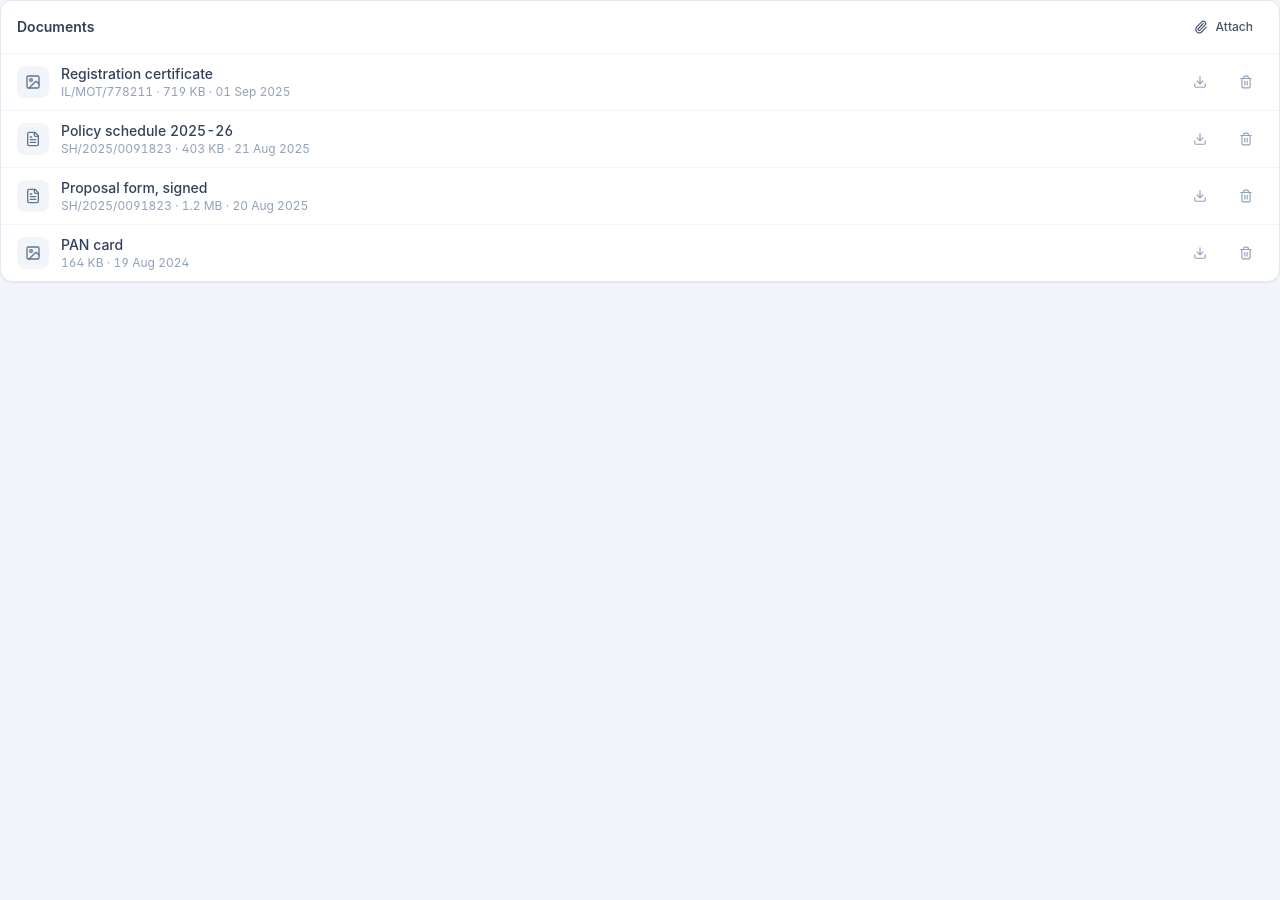
Scenario: attaching a document › reports an attach the core refuses, keeping the form open
Click the button "Attach": (1223, 27) [1184,13,1263,41]
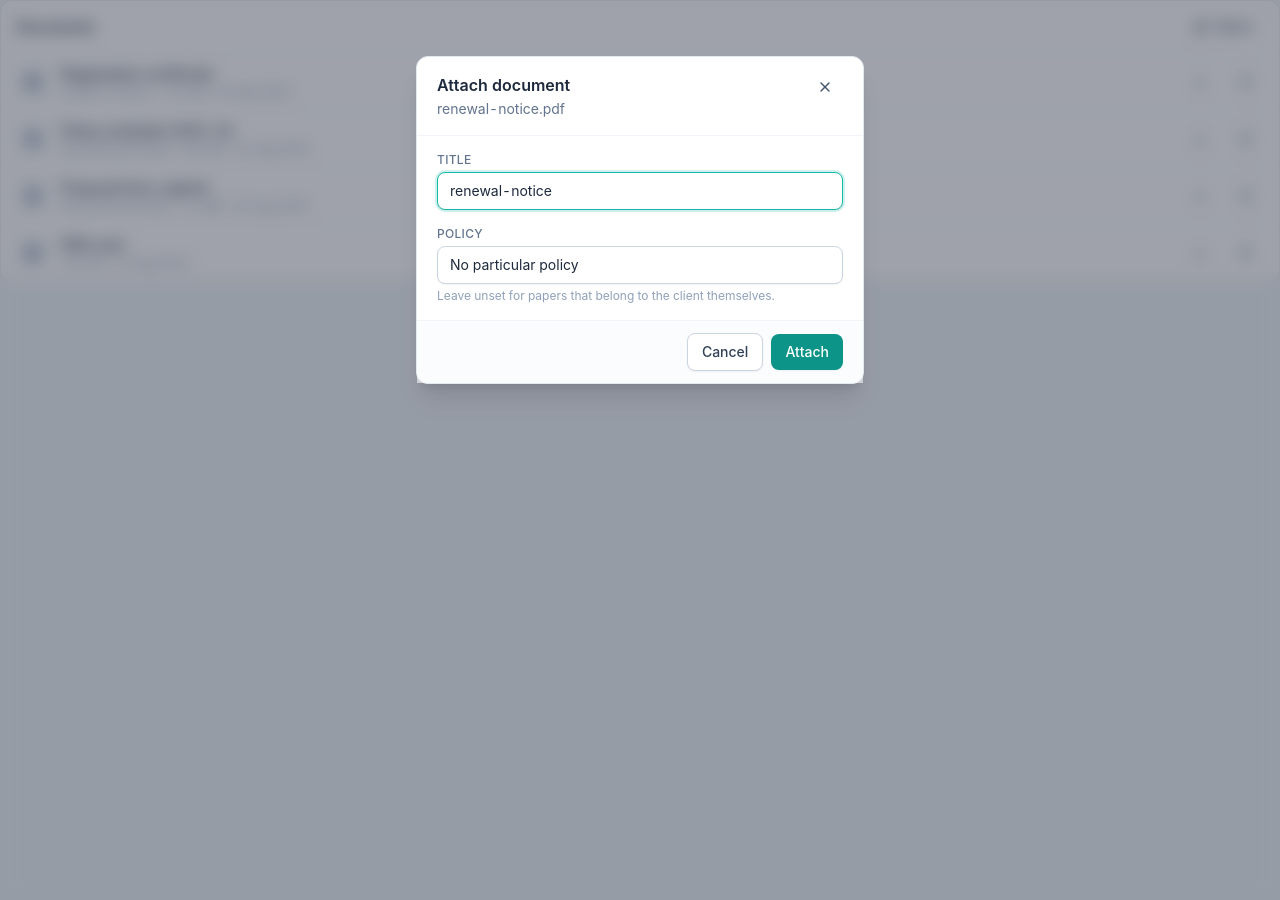
Click the button "Attach": (807, 352) [771,334,843,370]
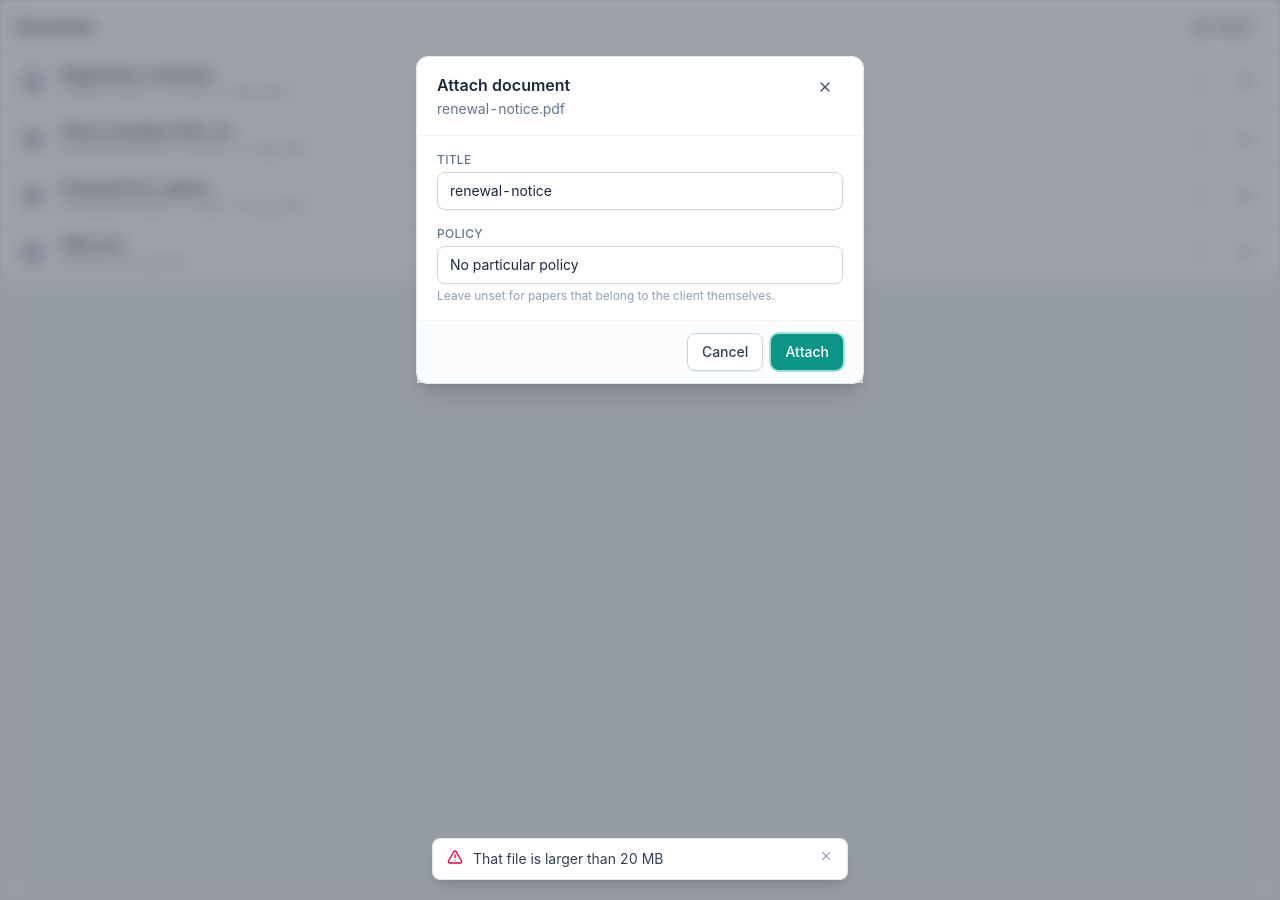
Result: the dialog is shown at [416,56,864,384]
Result: the text "That file is larger than 20 MB" is shown at [473,850,664,867]
